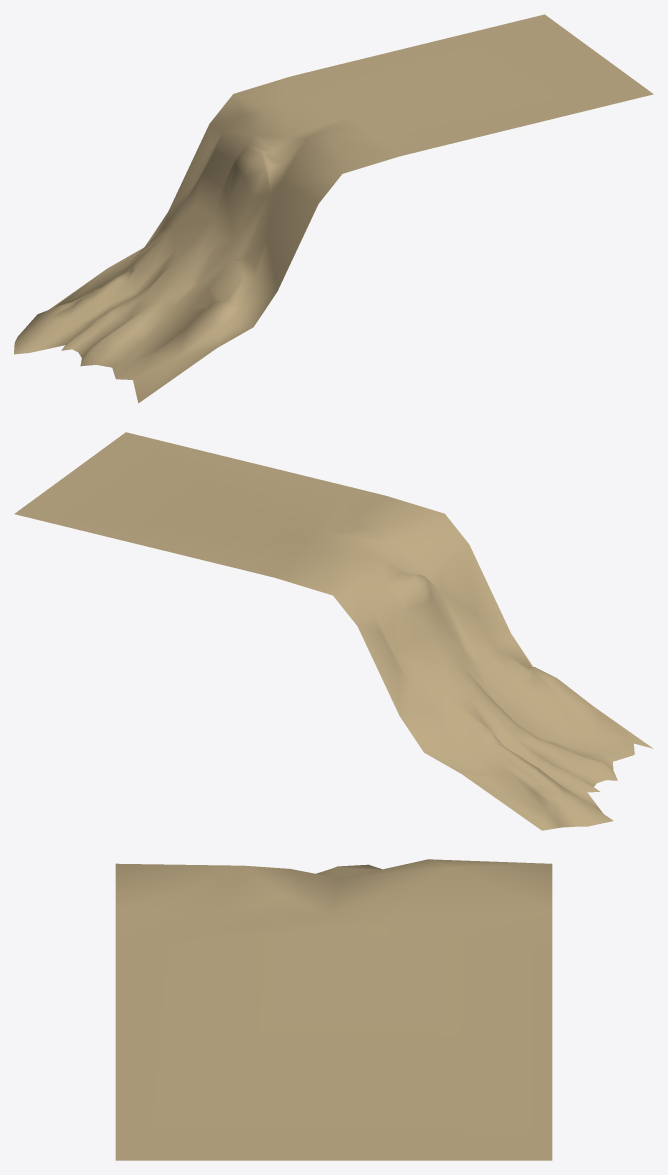
Rendered from 20C_rock_BigWall_01.fbx.
The picture shows the model from 3 angles, top to bottom: view 1: azimuth 30°, elevation 25°; view 2: azimuth 150°, elevation 25°; view 3: azimuth 270°, elevation 25°; orthographic projection. The views are drawn at different scales.
Visible parts, largest first — view 1: 20C_rock_BigWall_01; view 2: 20C_rock_BigWall_01; view 3: 20C_rock_BigWall_01.
Part boxes in pixels (left/top/right/bottom): 20C_rock_BigWall_01: left=14, top=14, right=653, bottom=403; 20C_rock_BigWall_01: left=14, top=432, right=653, bottom=830; 20C_rock_BigWall_01: left=115, top=859, right=552, bottom=1160.
Bounding box in the file's own units: 236 × 77.47 × 80.
